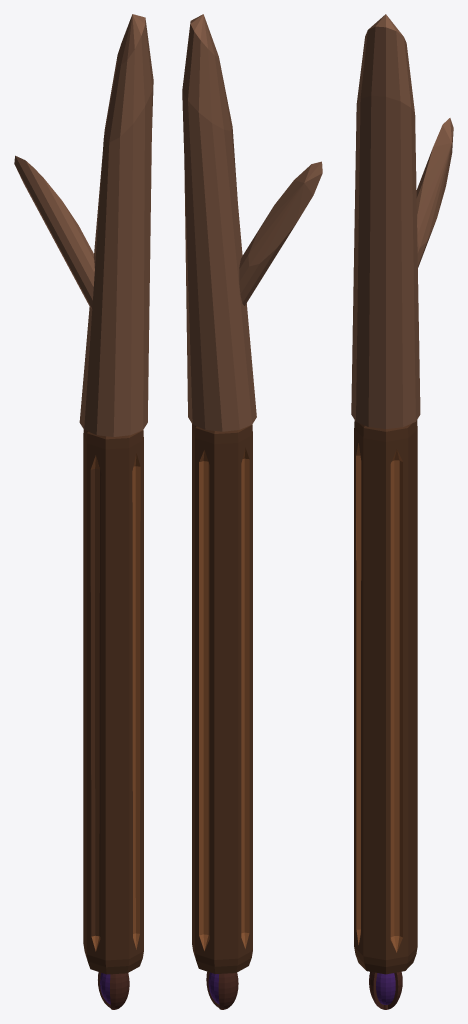
File: Wand 567.glb
The picture shows the model from 3 angles, left to right: view 1: azimuth 30°, elevation 25°; view 2: azimuth 210°, elevation 25°; view 3: azimuth 270°, elevation 25°; orthographic projection.
Parts seen in each view (by area): view 1: GeneratedWand; view 2: GeneratedWand; view 3: GeneratedWand.
Boxes of the visible parts, left/top/right/bottom form: GeneratedWand: left=14, top=14, right=153, bottom=1009; GeneratedWand: left=182, top=14, right=322, bottom=1009; GeneratedWand: left=351, top=14, right=453, bottom=1009.
Bounding box in the file's own units: 0.0578 × 0.5046 × 0.0466.
